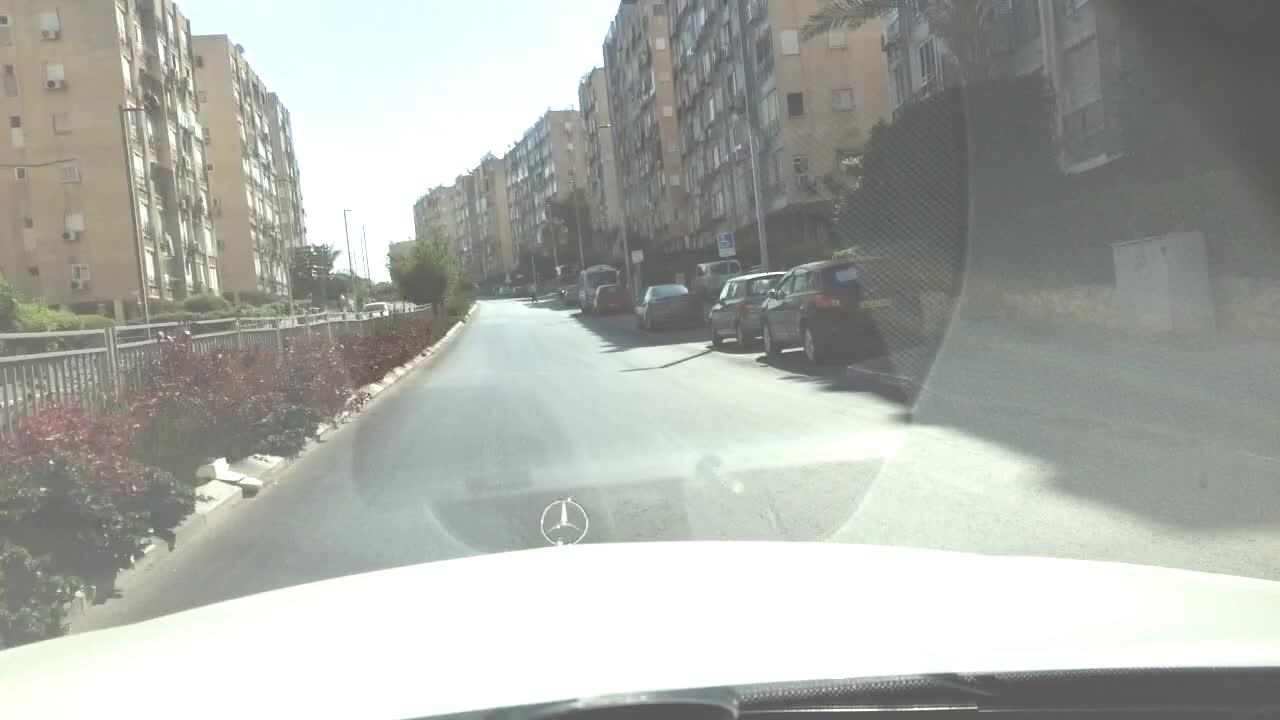Mercedes: (536, 491, 595, 550)
